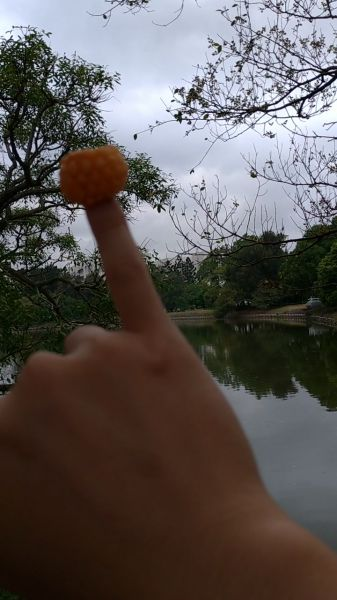eggs: (59, 145, 128, 203)
